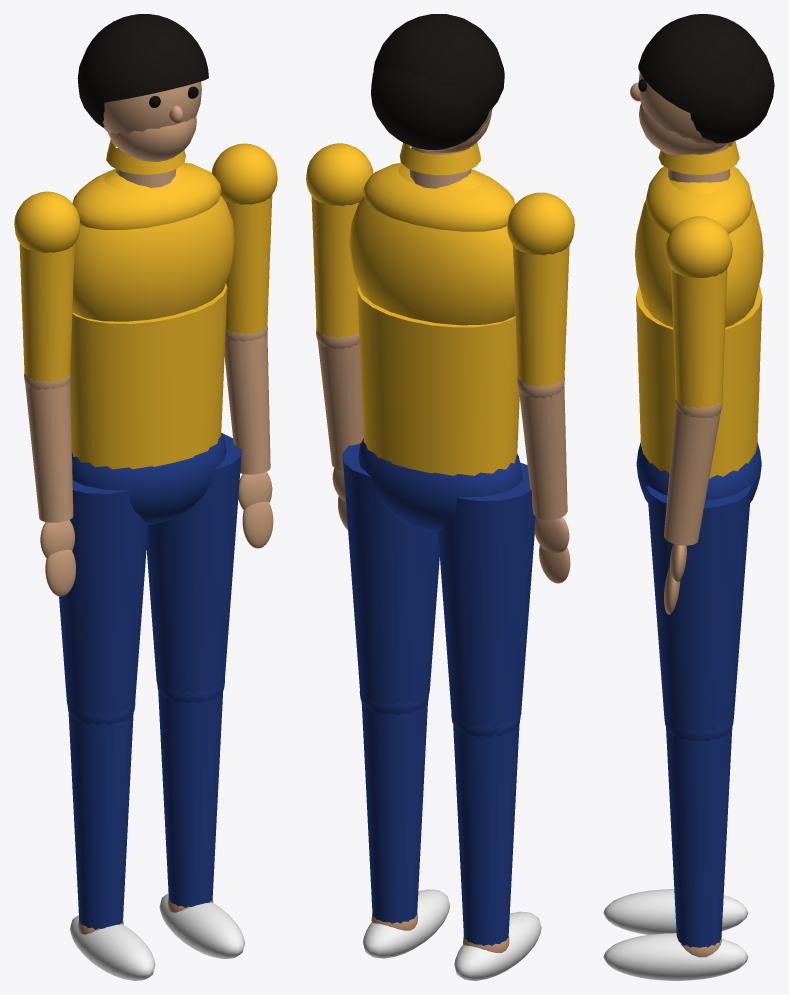
File: teacher.glb
3 views of the same model, side by side, from view 1: azimuth 30°, elevation 25°; view 2: azimuth 150°, elevation 25°; view 3: azimuth 270°, elevation 25° (orthographic). The views are drawn at different scales.
Visible parts, largest first — view 1: leg (×2), object 7, arm (×2), object 4, teacher, object 2, object 1; view 2: leg (×2), object 7, arm (×2), object 4, teacher, object 1; view 3: leg (×2), object 7, arm, object 4, object 2, teacher, object 1.
Part boxes in pixels (<box>): leg (×2): <box>59,433,244,980</box>; object 7: <box>70,139,235,469</box>; arm (×2): <box>14,143,277,596</box>; object 4: <box>77,14,208,127</box>; teacher: <box>72,433,226,524</box>; object 2: <box>103,81,201,161</box>; object 1: <box>115,148,176,187</box>; leg (×2): <box>342,443,541,980</box>; object 7: <box>349,142,519,475</box>; arm (×2): <box>306,143,574,583</box>; object 4: <box>371,14,504,150</box>; teacher: <box>358,438,522,532</box>; object 1: <box>409,146,471,188</box>; leg (×2): <box>603,485,751,980</box>; object 7: <box>635,141,763,478</box>; arm: <box>664,216,732,614</box>; object 4: <box>639,14,774,143</box>; object 2: <box>630,71,729,155</box>; teacher: <box>636,442,761,502</box>; object 1: <box>668,144,730,182</box>.
Bounding box in the file's own units: 0.7373 × 2.56 × 0.4248.
